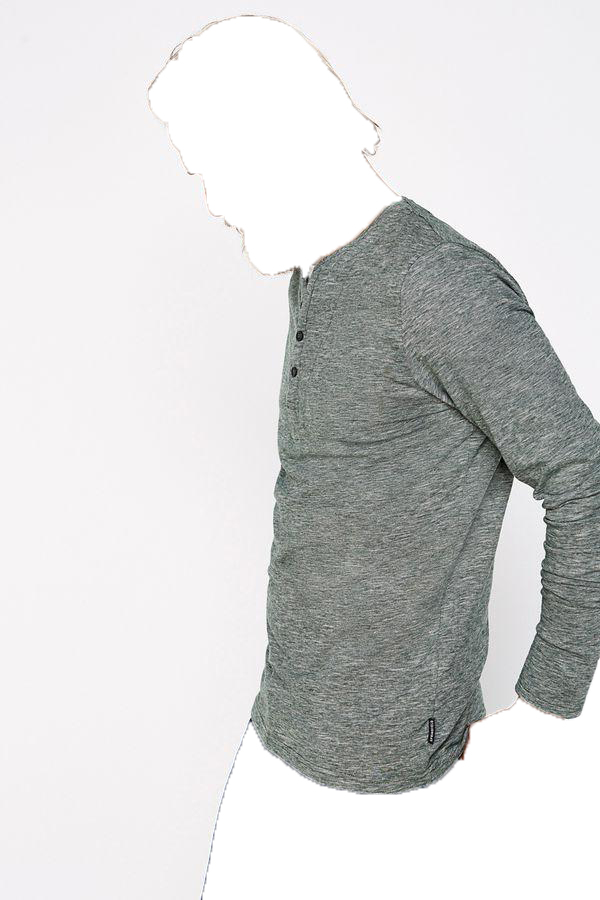teeshirt: (246, 200, 600, 791)
